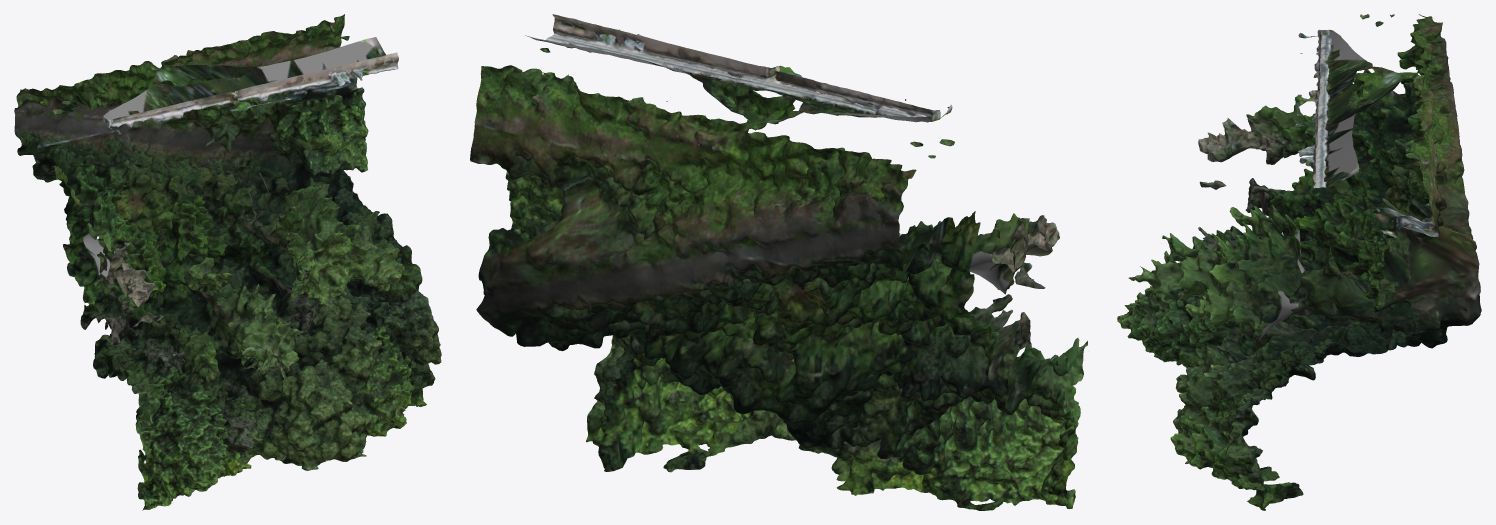
Rendered from Tile_+007_+005.fbx.
3 views of the same model, side by side, from view 1: azimuth 30°, elevation 25°; view 2: azimuth 150°, elevation 25°; view 3: azimuth 270°, elevation 25° (orthographic). The views are drawn at different scales.
Parts seen in each view (by area): view 1: DefaultName; view 2: DefaultName; view 3: DefaultName.
Part boxes in pixels (<box>): DefaultName: <box>14,14,441,510</box>; DefaultName: <box>470,14,1087,510</box>; DefaultName: <box>1117,14,1481,510</box>.
Bounding box in the file's own units: 22.54 × 22.54 × 21.98.
